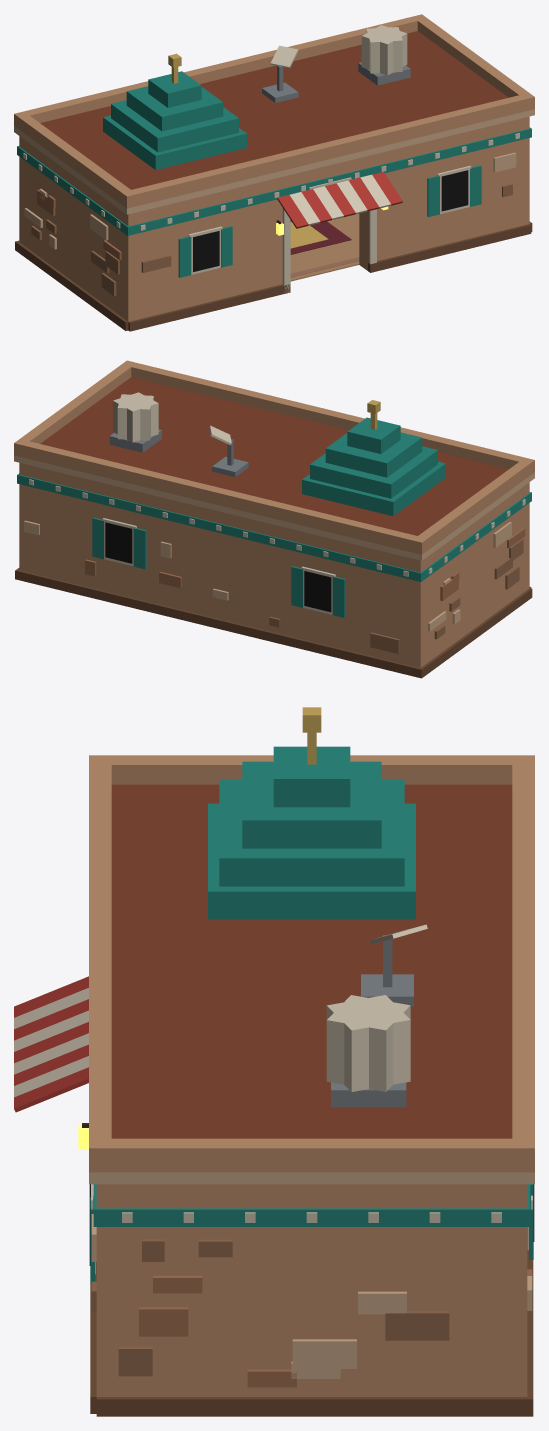
File: dd_half_a.glb
3 views of the same model, one above another, from view 1: azimuth 30°, elevation 25°; view 2: azimuth 150°, elevation 25°; view 3: azimuth 270°, elevation 25° (orthographic). The views are drawn at different scales.
Parts seen in each view (by area): view 1: DUBG_dd_half_a, DUBG_dd_half_a_roof; view 2: DUBG_dd_half_a, DUBG_dd_half_a_roof; view 3: DUBG_dd_half_a_roof, DUBG_dd_half_a.
Part boxes in pixels (x1,y1,x2,y2): DUBG_dd_half_a: (15,116,532,331); DUBG_dd_half_a_roof: (14,14,534,214); DUBG_dd_half_a: (15,462,532,678); DUBG_dd_half_a_roof: (14,360,534,560); DUBG_dd_half_a_roof: (89,707,534,1184); DUBG_dd_half_a: (14,976,534,1416).
Bounding box in the file's own units: 24.6 × 12.07 × 13.78.
